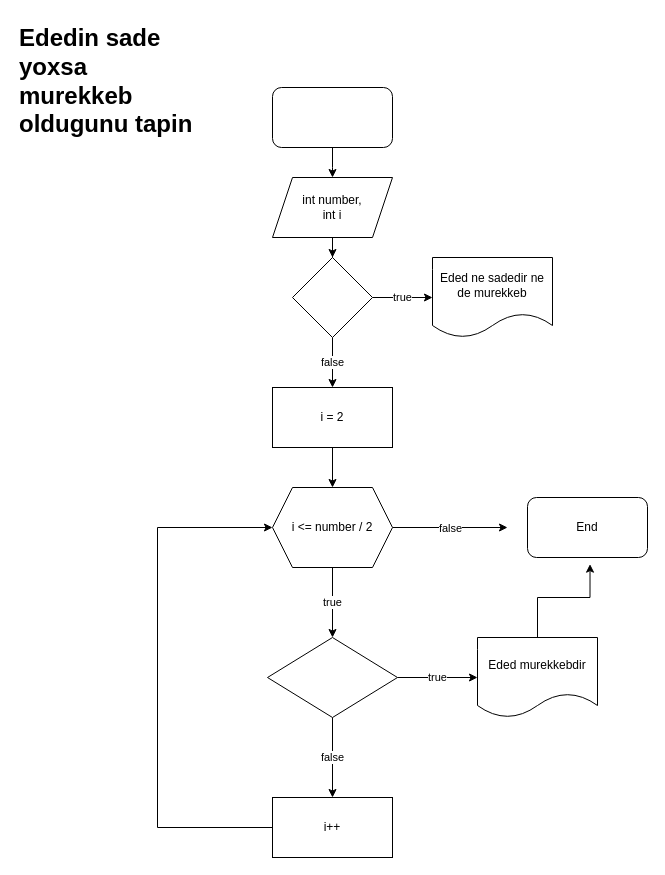
Some shapes in this 665 by 875 pixel diagram are drawn without their labels. Here are the shapes that lost their labels. From the top down, the box of each, then its label:
(272, 86, 392, 148): Start
(292, 256, 372, 338): number < 2
(266, 636, 398, 718): number % i == 0
